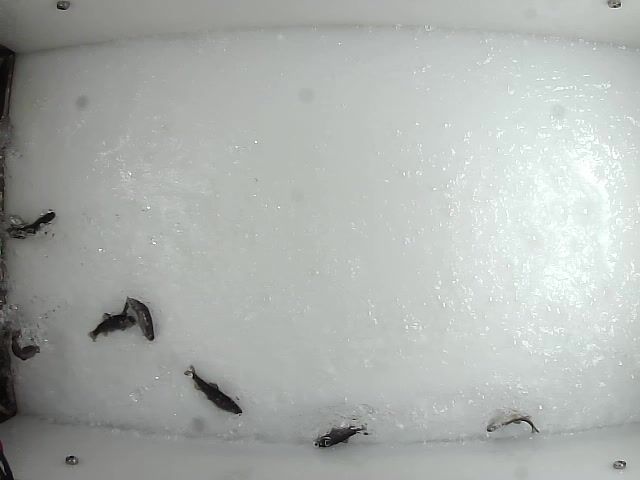fish: (183, 363, 244, 415), (308, 421, 372, 451), (86, 310, 137, 346), (121, 296, 156, 344), (1, 209, 57, 236), (484, 408, 539, 434), (7, 326, 42, 363)
